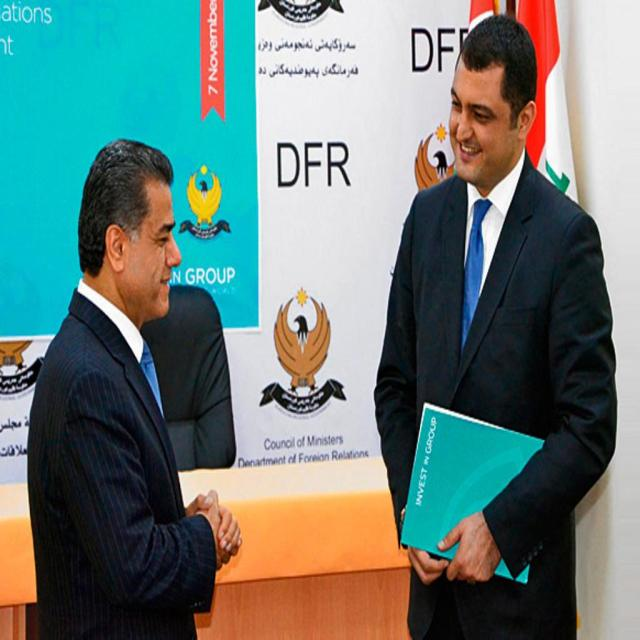Face: (432, 62, 518, 179), (126, 170, 188, 318)
